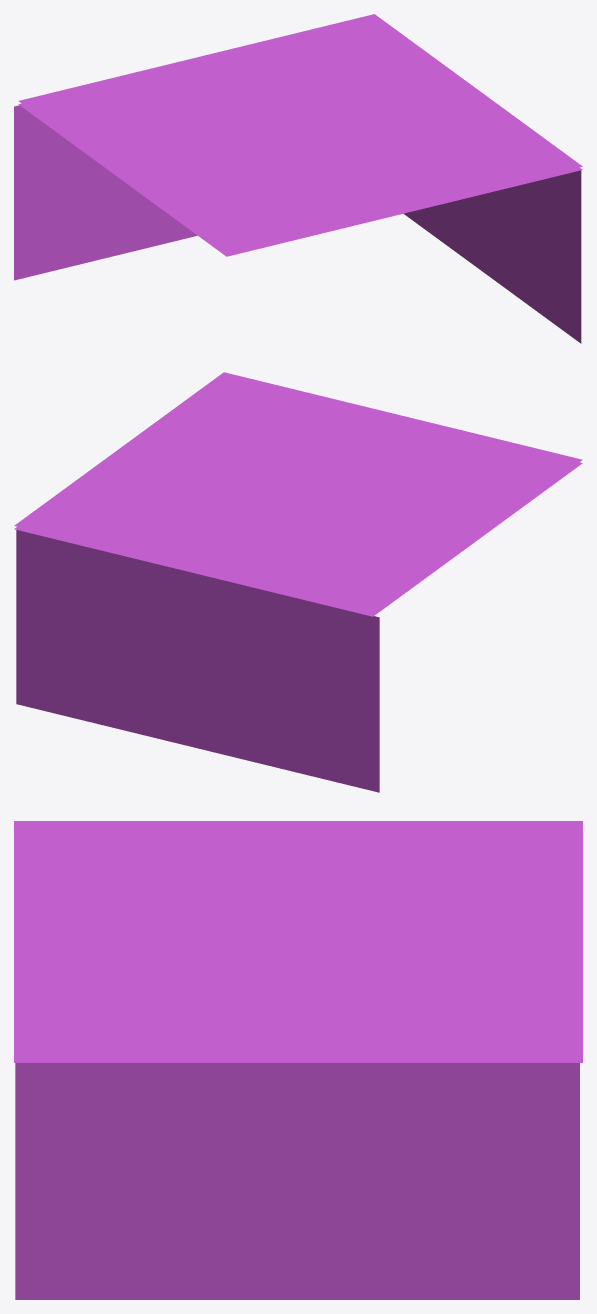
Rendered from Floor.fbx.
3 views of the same model, one above another, from view 1: azimuth 30°, elevation 25°; view 2: azimuth 150°, elevation 25°; view 3: azimuth 270°, elevation 25° (orthographic). The views are drawn at different scales.
Parts seen in each view (by area): view 1: Planks, Sides, Base; view 2: Planks, Sides, Base; view 3: Planks, Sides, Base.
Boxes of the visible parts, box(x1,y1,x2,y2) form: Planks: box(19, 14, 582, 253); Sides: box(14, 105, 581, 343); Base: box(18, 103, 582, 256); Planks: box(14, 372, 582, 613); Sides: box(16, 530, 379, 792); Base: box(14, 462, 582, 616); Planks: box(14, 821, 582, 1058); Sides: box(15, 1063, 579, 1299); Base: box(14, 1058, 582, 1062).
Size of the model in its own units: 5033 by 2359 by 5022.
